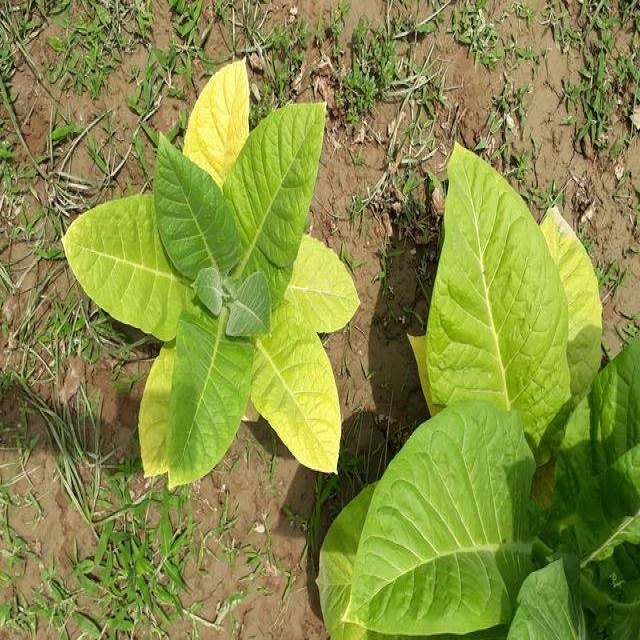crop: (348, 143, 640, 640), (65, 71, 362, 477)
